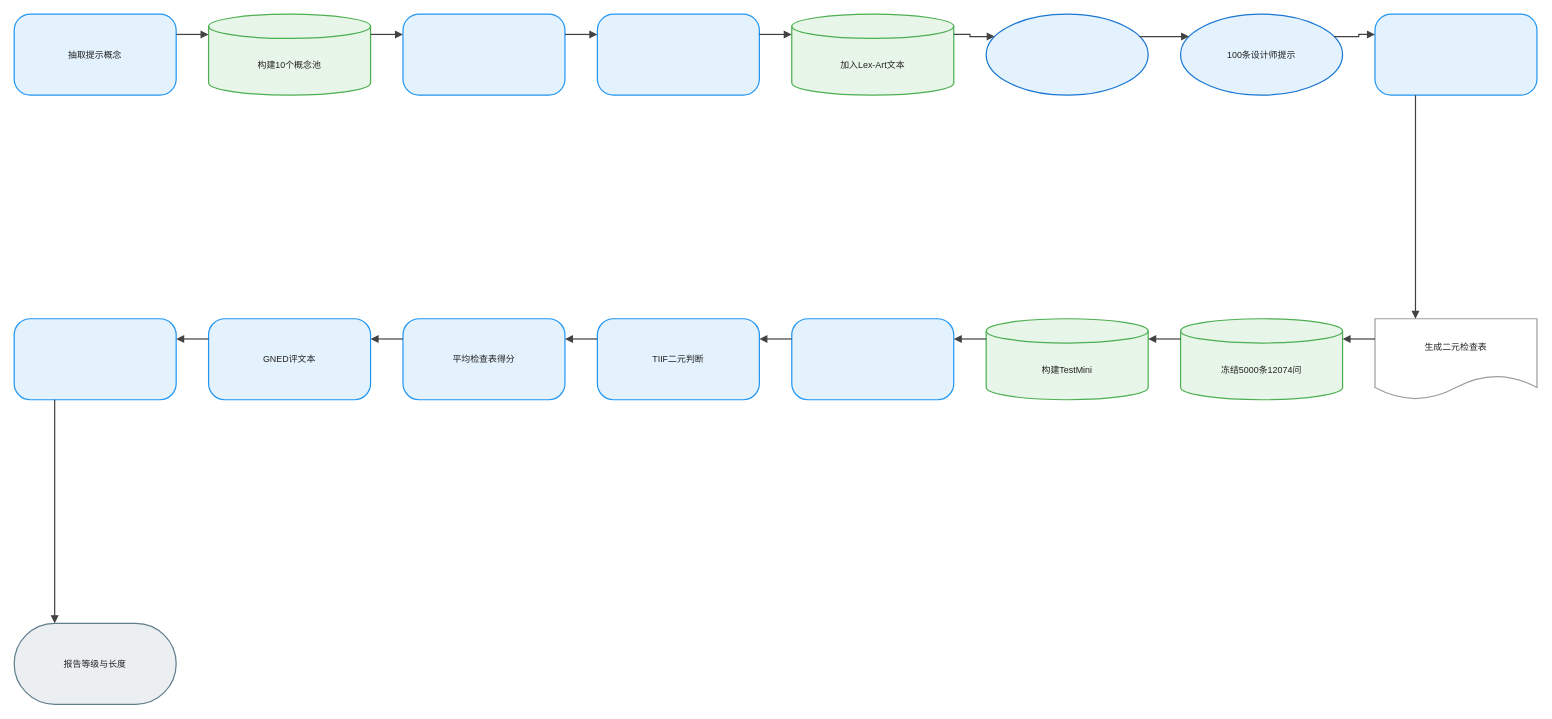
Some shapes in this 1552 by 719 pixel diagram are drawn without their labels. The box of each missing label's shape, as (x1, y1, x2, y2) in pixels:
CSD加DINOv3评风格: (13, 318, 176, 400)
GPT-4o组成指令: (596, 13, 760, 95)
定义36种组合: (402, 13, 565, 95)
生成评测图像: (791, 318, 954, 400)
短提示扩写为长提示: (1374, 13, 1537, 95)
策划风格参考图: (985, 13, 1148, 95)
